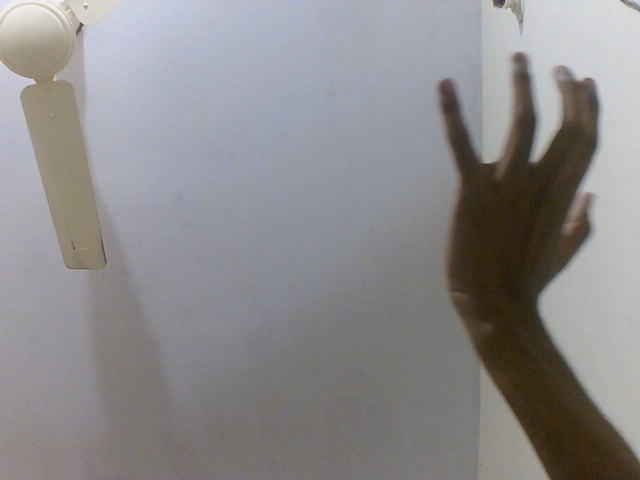hand: (434, 50, 600, 337)
